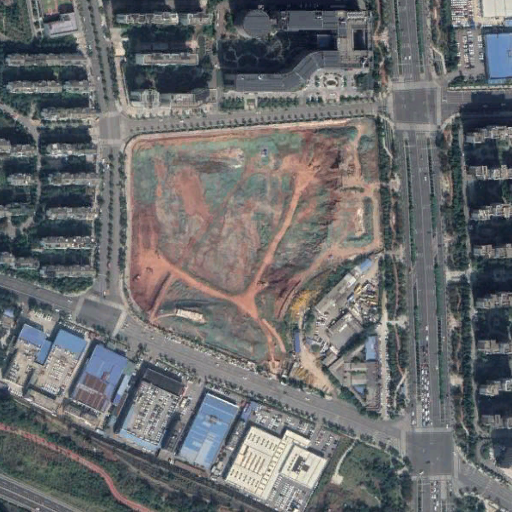cw: (129, 116, 383, 367)
